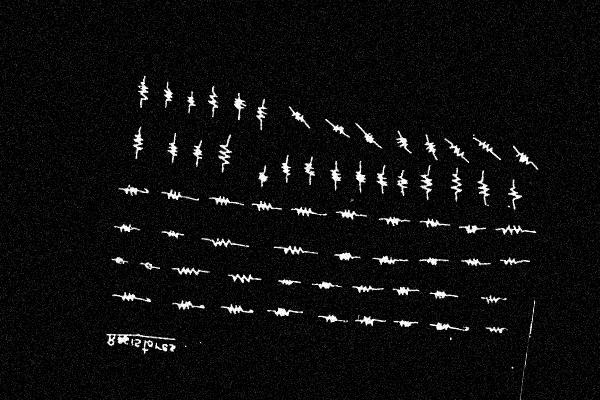resistor: (416, 168, 438, 197), (498, 220, 528, 240), (446, 169, 466, 197), (215, 139, 234, 168), (504, 181, 526, 206), (473, 174, 493, 201), (325, 161, 346, 186), (228, 269, 257, 287), (278, 242, 310, 258), (372, 252, 402, 269), (222, 300, 250, 318), (173, 264, 205, 279), (129, 128, 146, 156), (355, 311, 380, 330), (208, 236, 237, 252), (134, 77, 151, 103), (174, 296, 198, 314), (268, 304, 295, 320), (514, 150, 538, 168), (352, 281, 377, 297), (292, 204, 317, 220), (230, 95, 249, 116), (121, 182, 144, 199), (165, 136, 182, 159), (117, 289, 141, 305), (335, 248, 359, 264), (314, 277, 338, 293), (430, 286, 454, 302), (254, 199, 278, 215), (300, 159, 319, 179), (206, 88, 221, 113), (114, 221, 139, 236), (374, 167, 391, 189), (446, 142, 468, 159), (500, 254, 523, 270), (381, 213, 404, 229), (211, 193, 234, 209), (352, 164, 368, 187), (159, 83, 175, 106), (325, 121, 348, 137), (474, 139, 497, 155), (392, 132, 411, 151), (394, 171, 411, 192), (421, 216, 443, 232), (190, 141, 206, 163), (462, 255, 487, 269), (337, 208, 362, 222), (163, 188, 186, 203), (254, 101, 269, 124), (432, 318, 453, 334), (279, 158, 295, 179), (420, 254, 443, 268), (392, 284, 413, 299), (461, 221, 480, 237), (361, 130, 380, 146), (183, 91, 198, 111), (422, 137, 437, 157), (319, 312, 342, 325), (278, 275, 299, 289), (289, 109, 307, 125), (162, 227, 184, 240), (485, 324, 507, 336), (255, 168, 270, 185), (483, 293, 502, 306), (396, 317, 416, 329), (141, 260, 159, 273), (111, 254, 128, 267)
